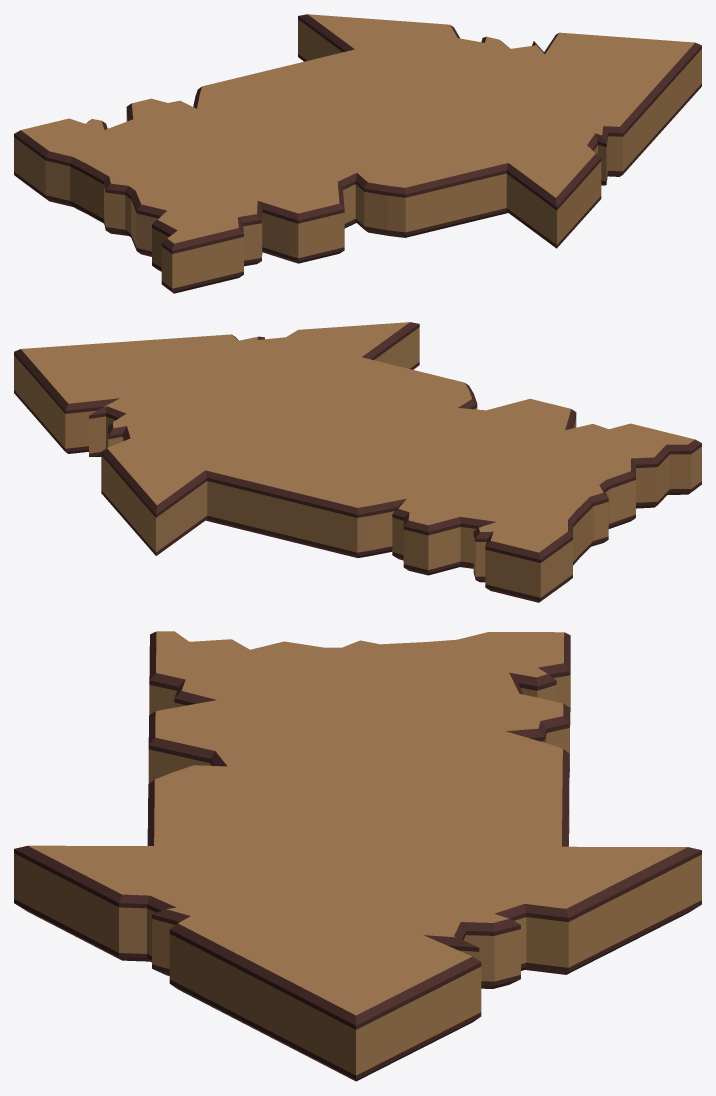
File: cartel.glb
3 renders of one model, top to bottom at view 1: azimuth 30°, elevation 25°; view 2: azimuth 150°, elevation 25°; view 3: azimuth 270°, elevation 25°, orthographic. The views are drawn at different scales.
Parts seen in each view (by area): view 1: cartel-col; view 2: cartel-col; view 3: cartel-col.
Part boxes in pixels (left/top/right/bottom): cartel-col: left=14, top=14, right=701, bottom=293; cartel-col: left=14, top=322, right=701, bottom=602; cartel-col: left=14, top=631, right=701, bottom=1081.
Size of the model in its own units: 1.77 by 0.139 by 1.31.
